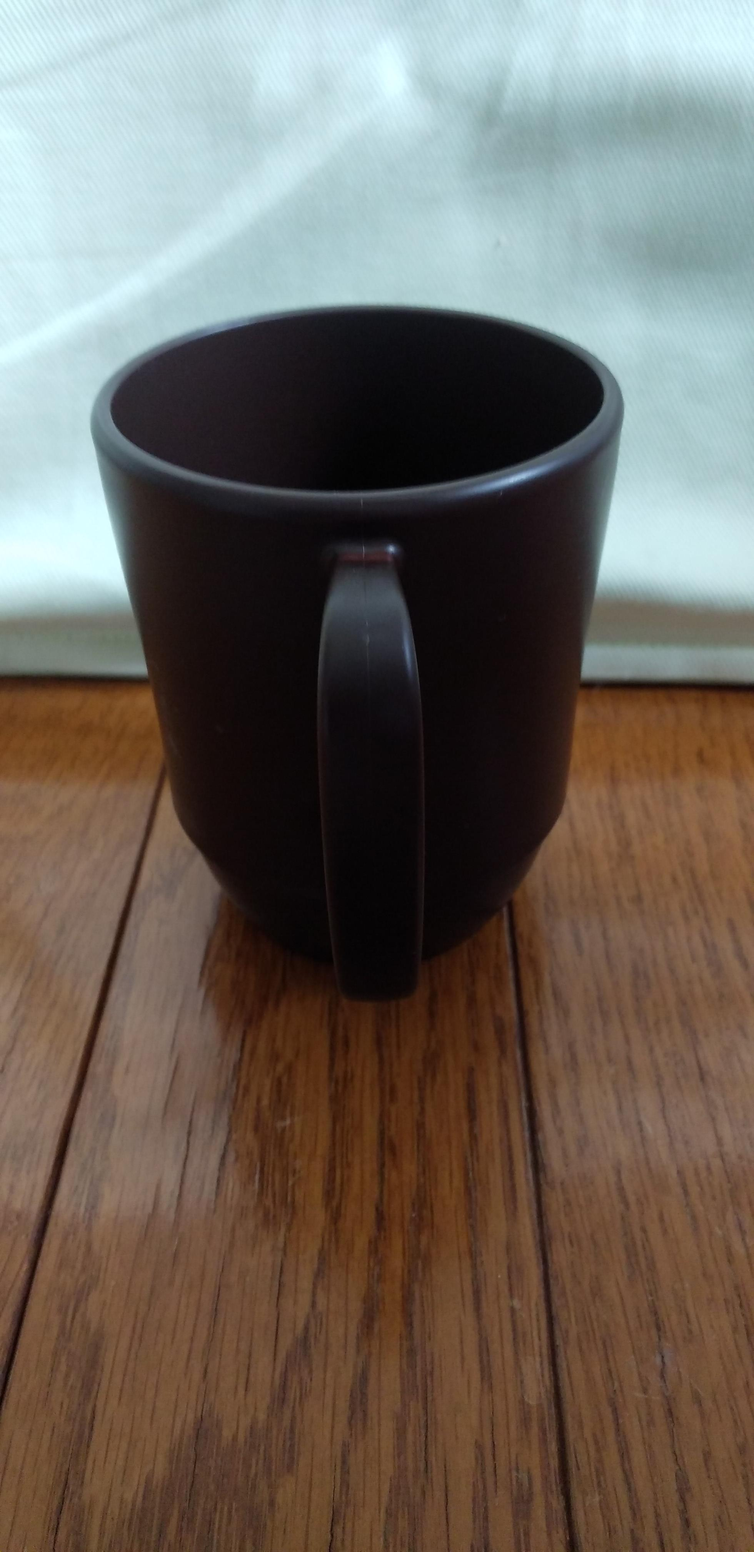mug-real100-3d100: (92, 307, 622, 1001)
